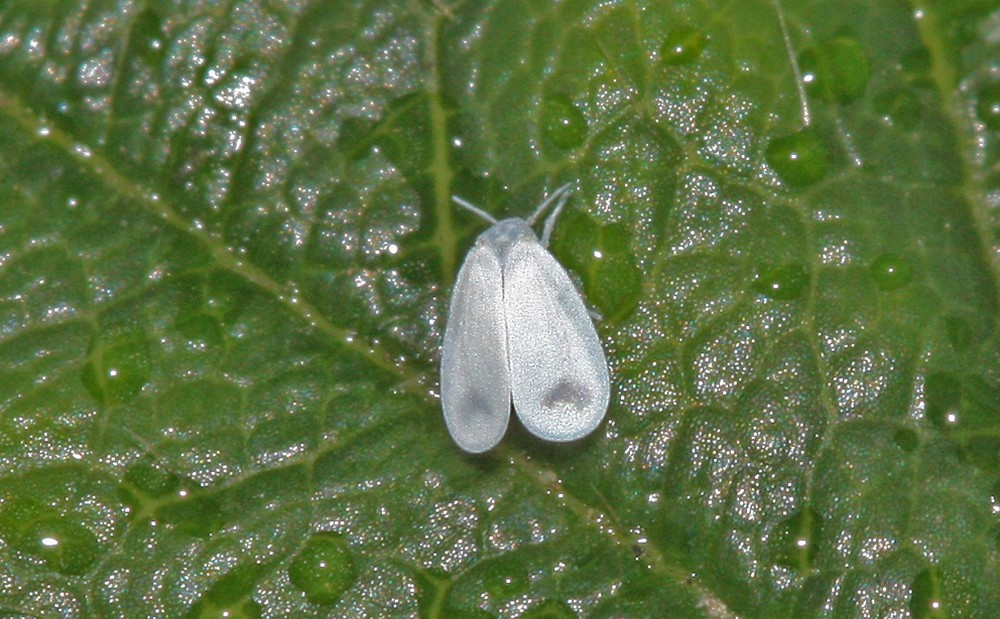Mosca Blanca: (407, 180, 656, 463)
